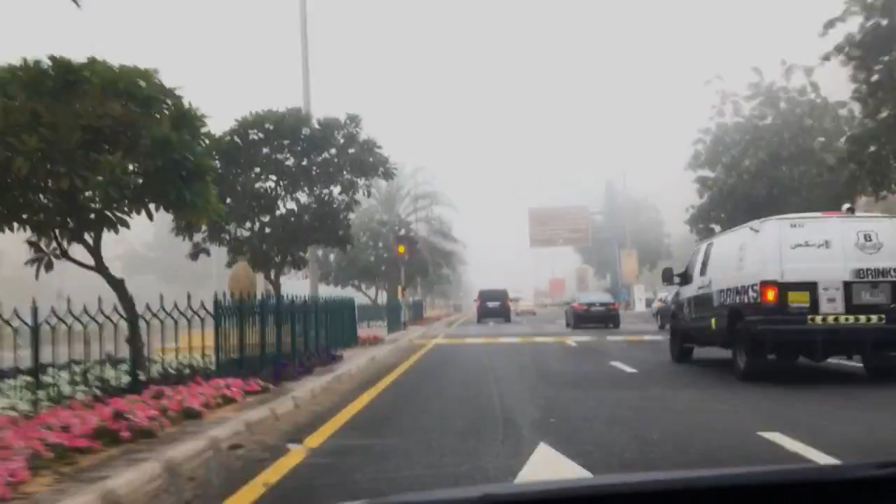car: (658, 205, 894, 383), (648, 263, 763, 334), (562, 289, 622, 329), (472, 287, 515, 326), (513, 297, 538, 318)
